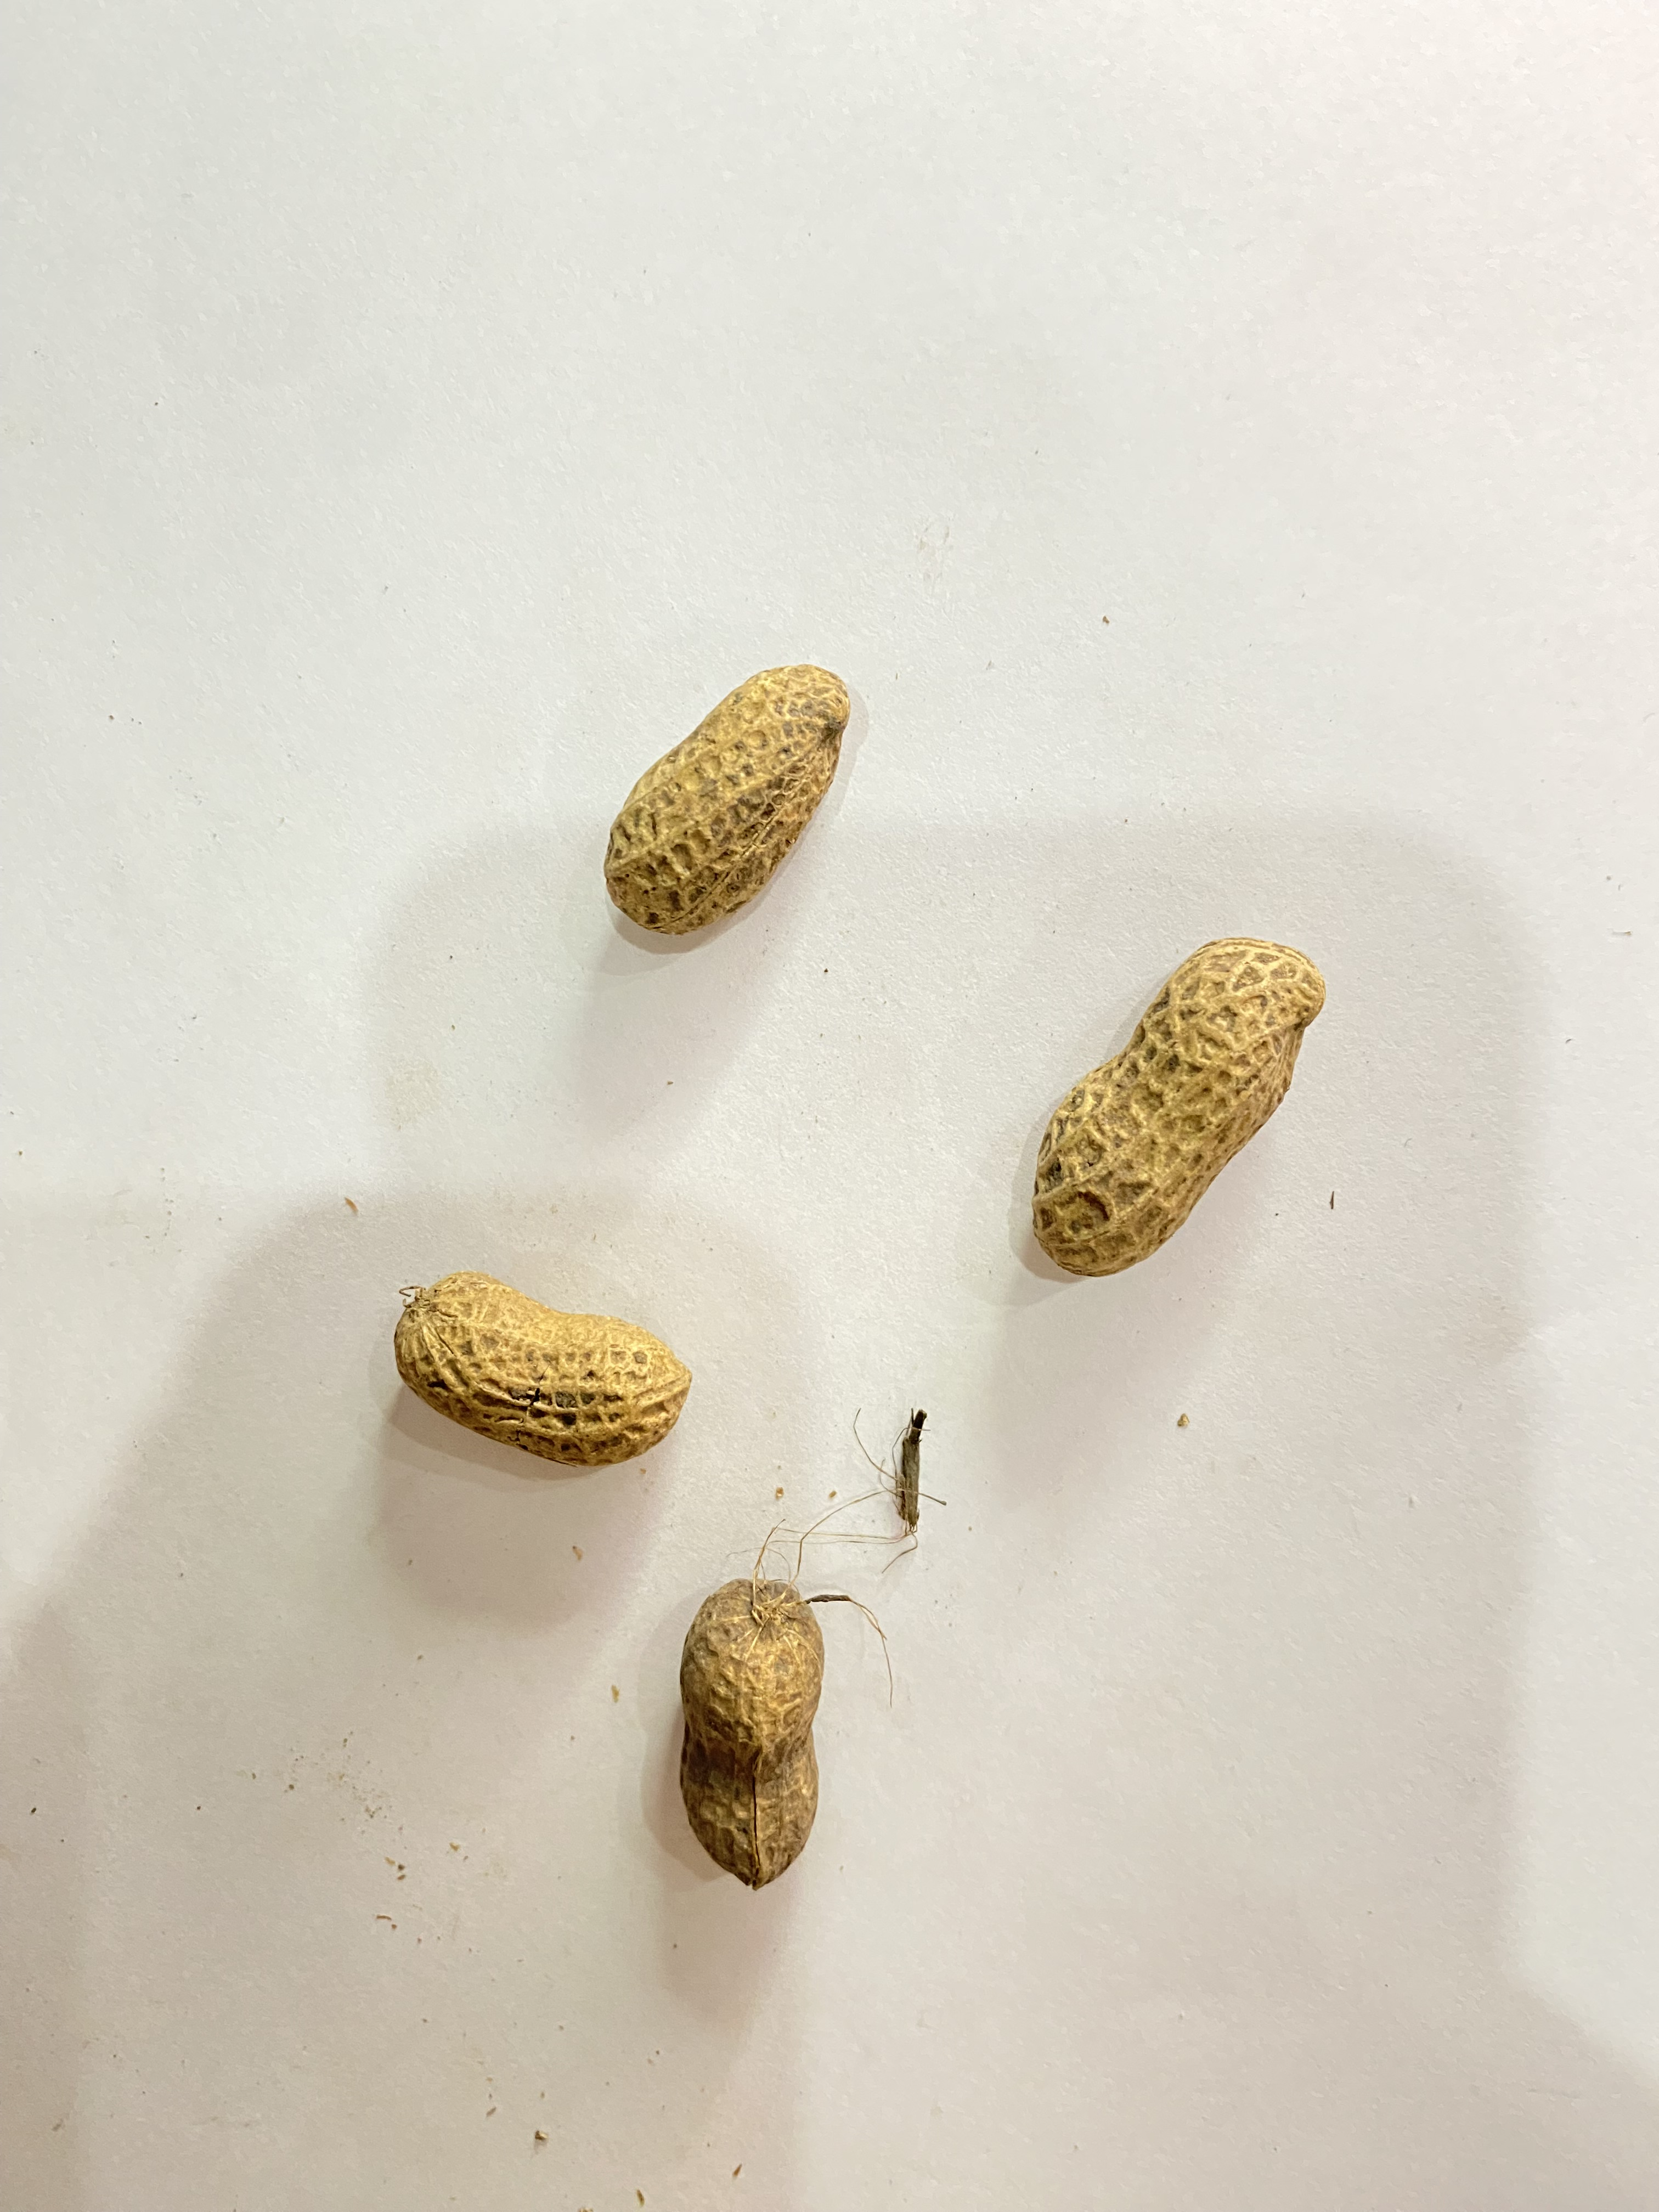kacang1: (592, 643, 880, 951), (375, 1258, 732, 1489)
kacang2: (1006, 906, 1392, 1277), (653, 1576, 863, 1892)
